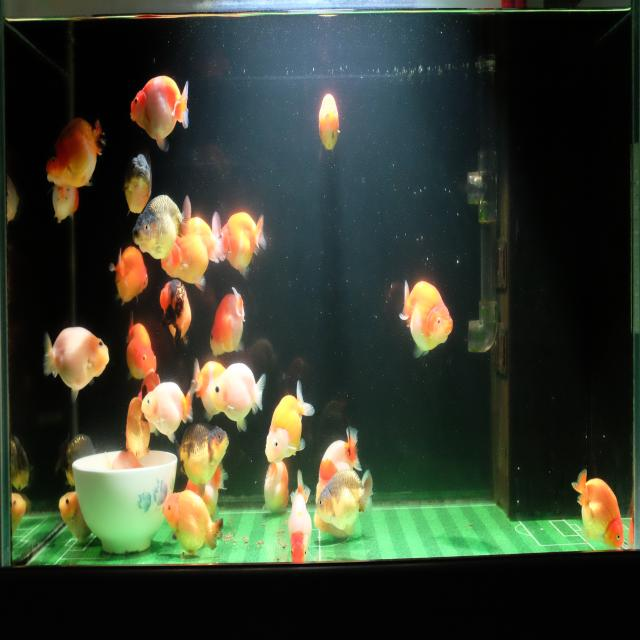Goldfish: (42, 322, 110, 404), (160, 210, 226, 291), (44, 114, 106, 193), (128, 74, 190, 151), (398, 278, 454, 362), (571, 468, 625, 552), (264, 378, 316, 465), (161, 491, 225, 559), (208, 360, 266, 433), (132, 192, 191, 262), (316, 468, 374, 537), (175, 426, 229, 500), (315, 422, 362, 506), (216, 209, 269, 281), (140, 381, 194, 444), (109, 240, 149, 310), (287, 469, 314, 568), (210, 284, 247, 356), (158, 278, 193, 352), (122, 139, 153, 222), (190, 357, 227, 425), (125, 313, 158, 387), (58, 432, 97, 487), (58, 488, 92, 546), (124, 389, 151, 462), (261, 455, 290, 518), (317, 92, 342, 156), (50, 176, 80, 226)
